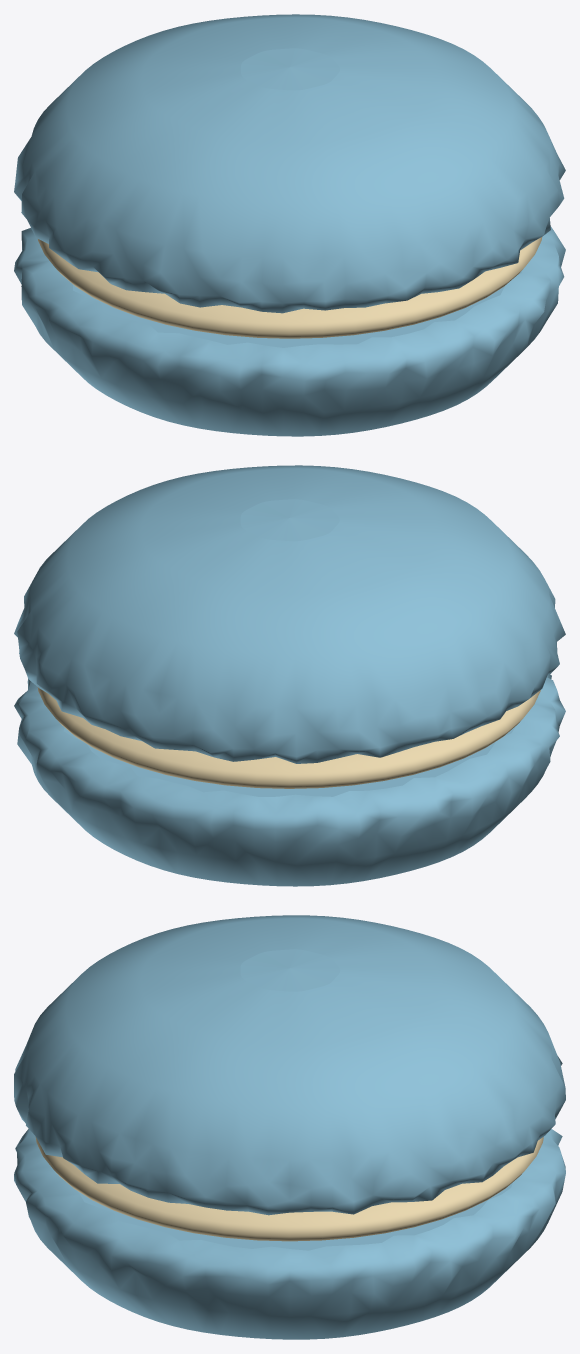
The picture shows the model from 3 angles, top to bottom: view 1: azimuth 30°, elevation 25°; view 2: azimuth 150°, elevation 25°; view 3: azimuth 270°, elevation 25°; orthographic projection.
Visible parts, largest first — view 1: Top domed shell with rough feet, Bottom domed shell with rough feet, Thick vanilla filling layer; view 2: Top domed shell with rough feet, Bottom domed shell with rough feet, Thick vanilla filling layer; view 3: Top domed shell with rough feet, Bottom domed shell with rough feet, Thick vanilla filling layer.
Boxes of the visible parts, left/top/right/bottom form: Top domed shell with rough feet: left=14, top=14, right=565, bottom=313; Bottom domed shell with rough feet: left=14, top=226, right=565, bottom=436; Thick vanilla filling layer: left=38, top=237, right=542, bottom=338; Top domed shell with rough feet: left=14, top=465, right=565, bottom=763; Bottom domed shell with rough feet: left=14, top=674, right=565, bottom=886; Thick vanilla filling layer: left=37, top=687, right=540, bottom=788; Top domed shell with rough feet: left=14, top=915, right=565, bottom=1215; Bottom domed shell with rough feet: left=14, top=1128, right=565, bottom=1339; Thick vanilla filling layer: left=35, top=1137, right=543, bottom=1241.
Bounding box in the file's own units: 0.0449 × 0.0282 × 0.0443.
